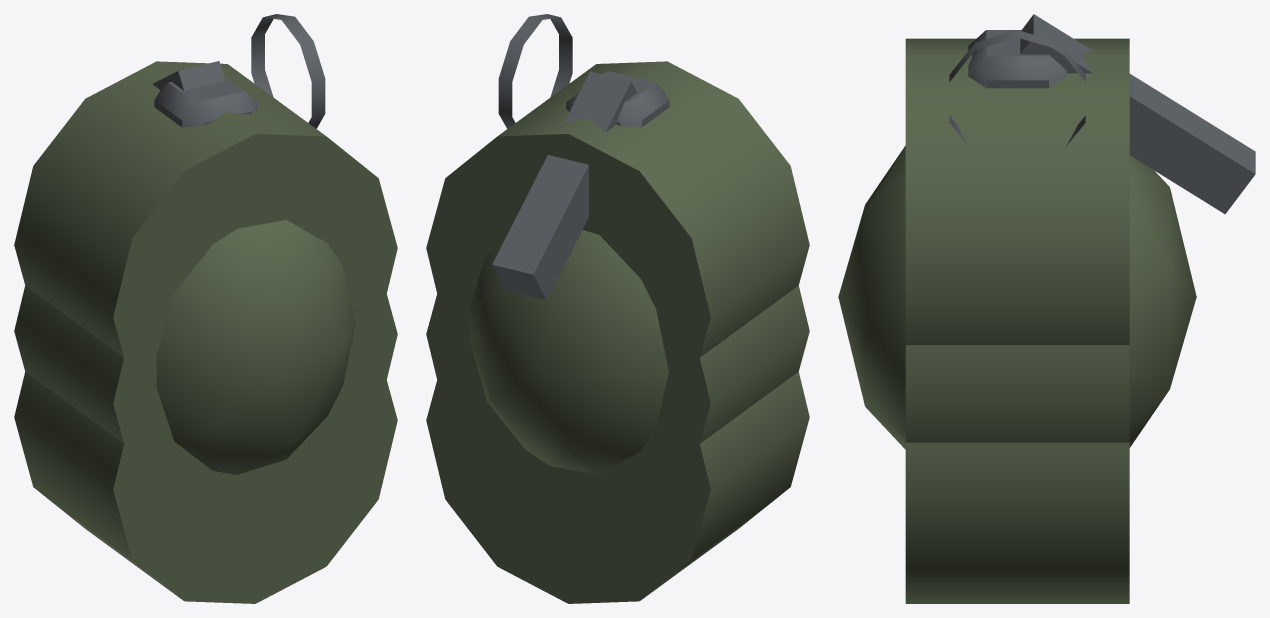
The model's file is grenade.glb.
3 views of the same model, side by side, from view 1: azimuth 30°, elevation 25°; view 2: azimuth 150°, elevation 25°; view 3: azimuth 270°, elevation 25° (orthographic). The views are drawn at different scales.
Parts seen in each view (by area): view 1: grenade__Body; view 2: grenade__Body; view 3: grenade__Body.
Part boxes in pixels (x1,y1,x2,y2): grenade__Body: (14, 14, 397, 603); grenade__Body: (426, 14, 809, 603); grenade__Body: (838, 14, 1255, 603).
Bounding box in the file's own units: 0.083 × 0.1475 × 0.0931.
